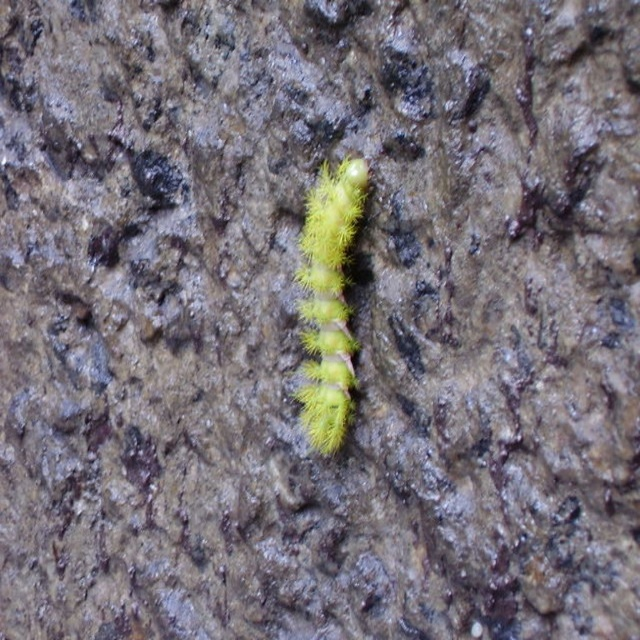Caterpillar: (284, 140, 375, 476)
